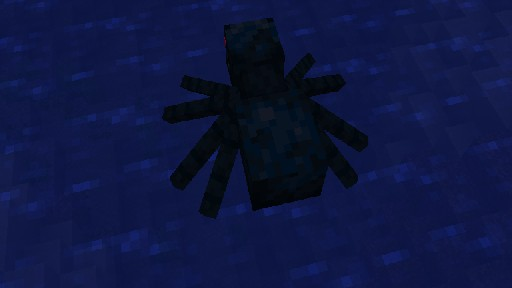cave_spider: (161, 16, 368, 218)
